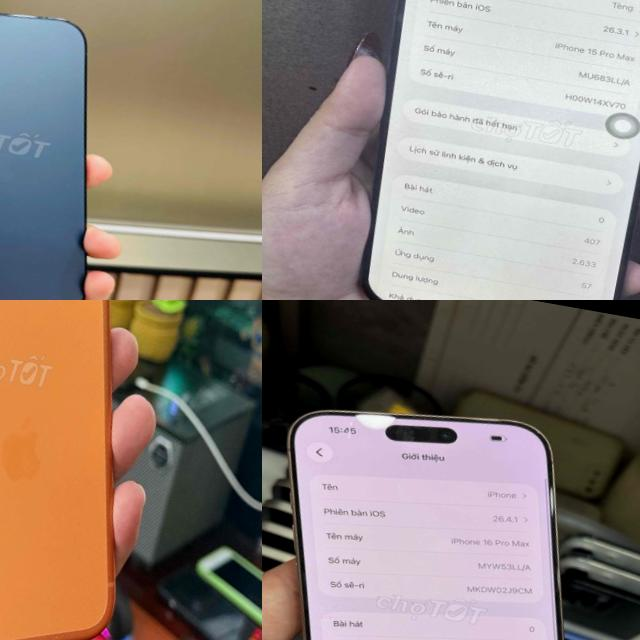gen_12_13: (0, 0, 135, 300)
gen_15: (344, 0, 640, 300)
gen_16: (289, 411, 562, 640)
